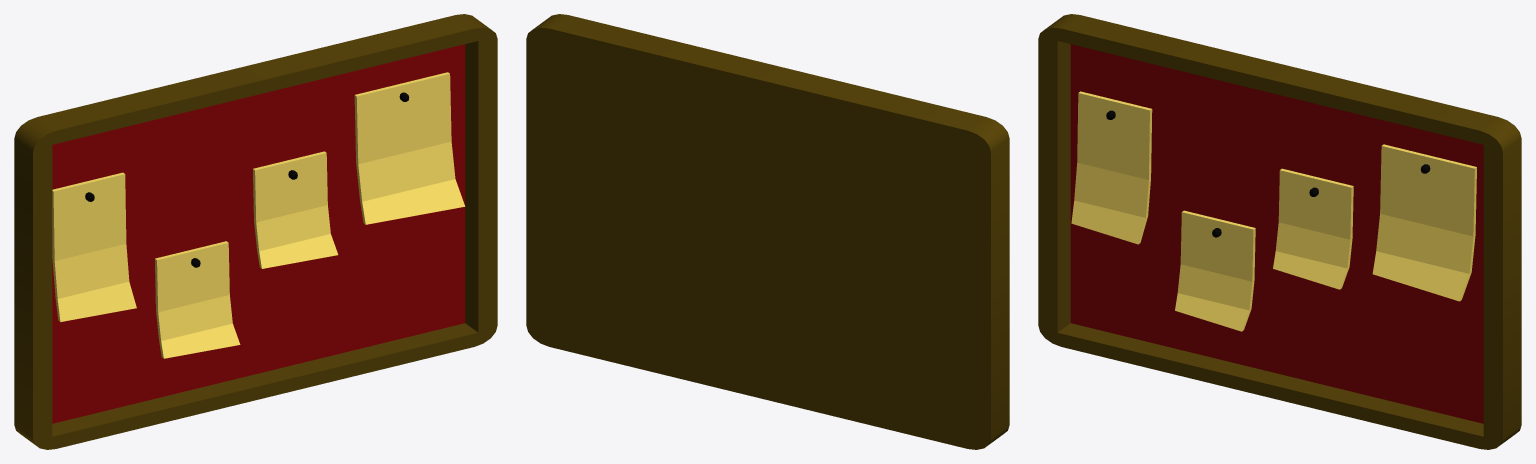
Rendered from panel.fbx.
3 renders of one model, left to right at view 1: azimuth 30°, elevation 25°; view 2: azimuth 150°, elevation 25°; view 3: azimuth 330°, elevation 25°, orthographic.
Parts seen in each view (by area): view 1: Sphere.002; view 2: Sphere.002; view 3: Sphere.002.
Boxes of the visible parts, x1,y1,x2,y2 form: Sphere.002: (14, 14, 497, 449); Sphere.002: (526, 14, 1009, 449); Sphere.002: (1038, 14, 1521, 449).
Size of the model in its own units: 515 by 337 by 46.54.
